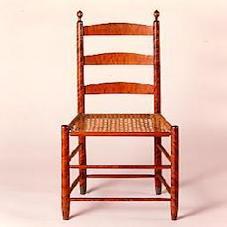chair: (53, 11, 198, 219)
